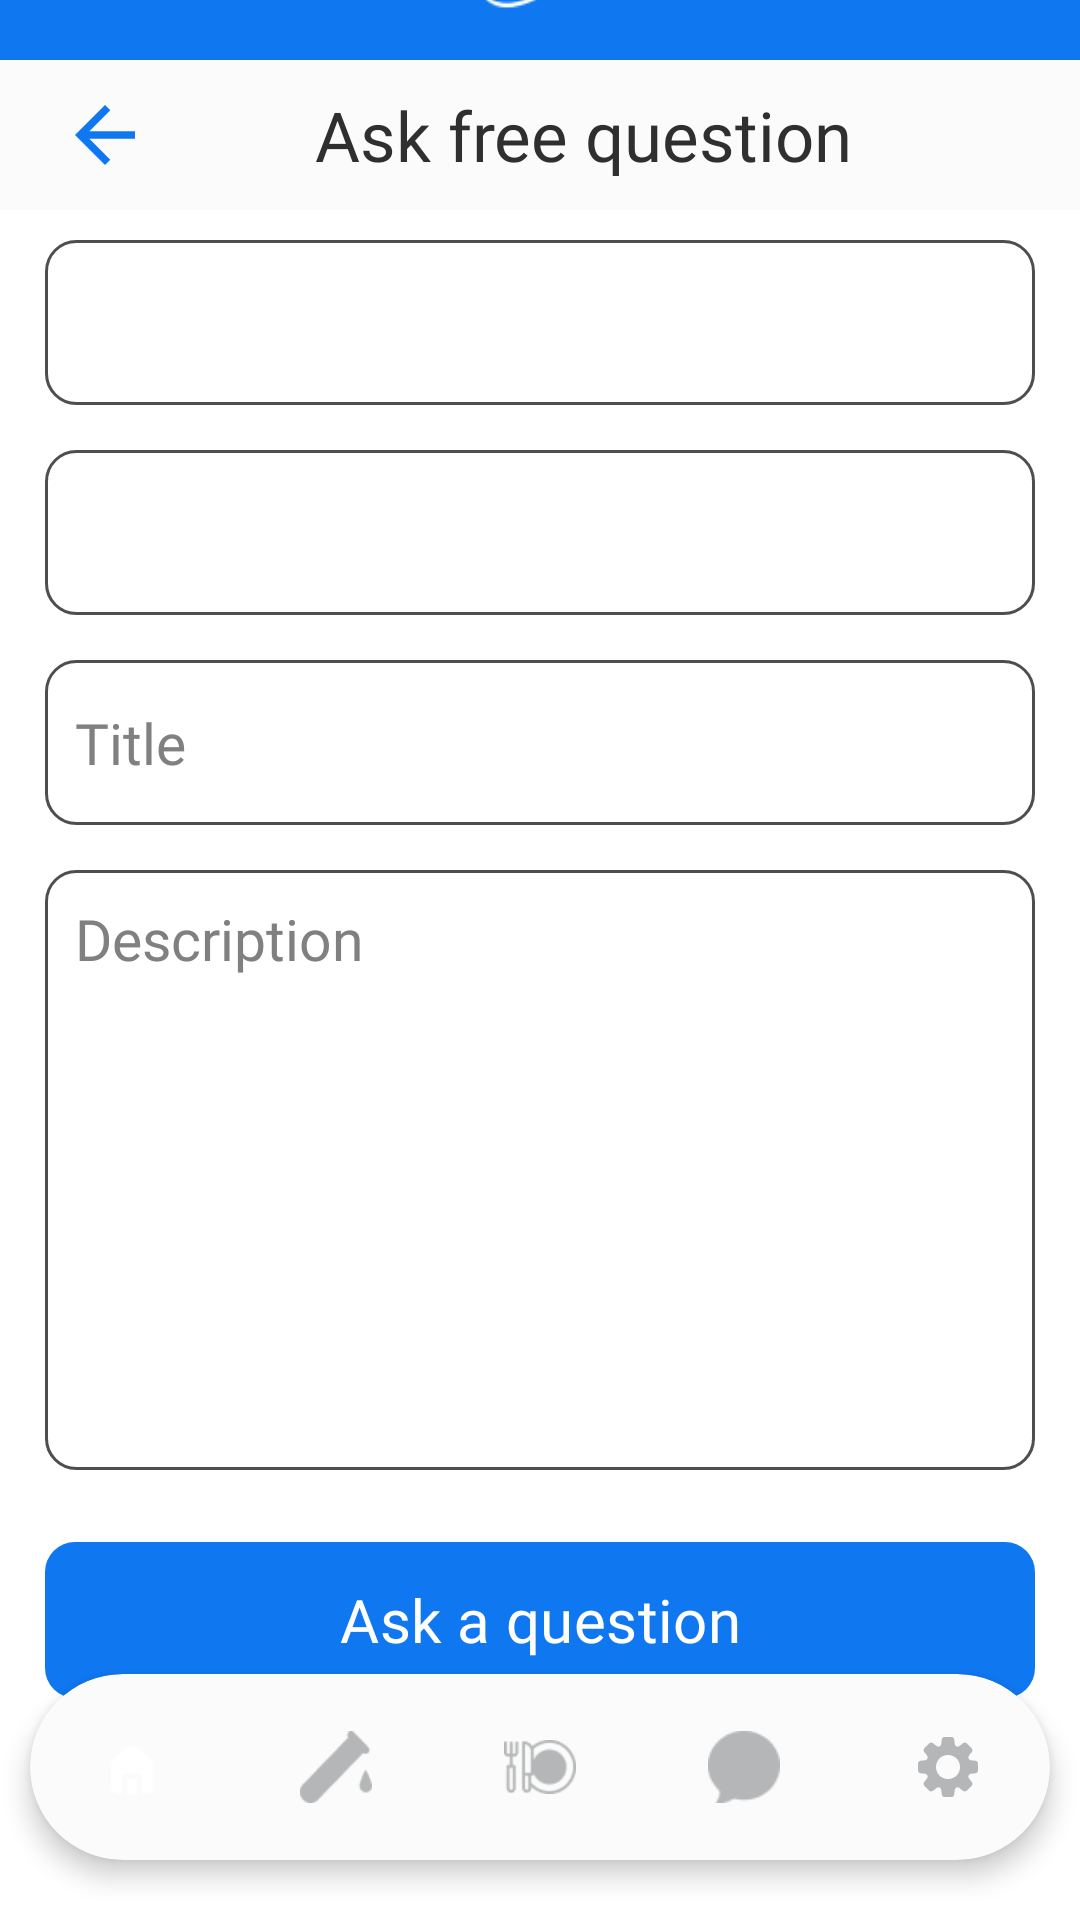

Icons on this 1080x1920 Android screen, each with the point to tap as (x=x, y=y):
backbutton: (x=105, y=135)
